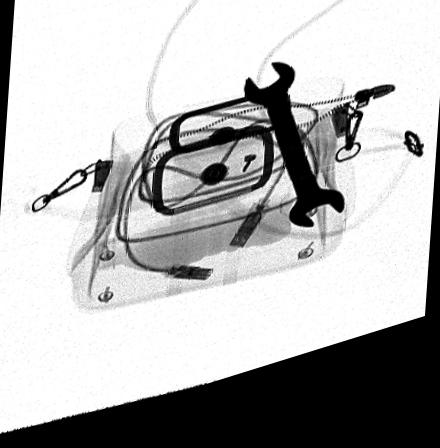Wrench: (245, 79, 346, 247)
